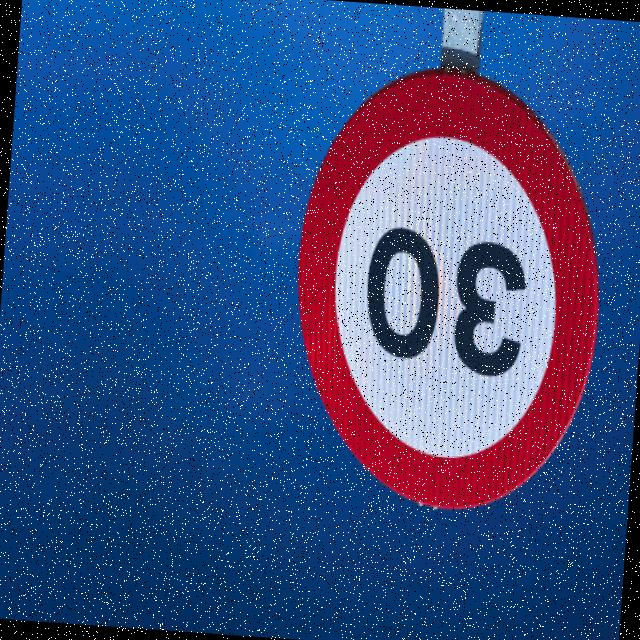speed_limit_30: (263, 60, 622, 531)
